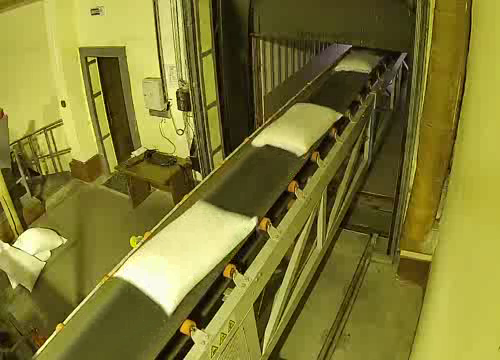bag: (88, 197, 271, 323), (244, 98, 346, 159), (326, 49, 385, 74)
